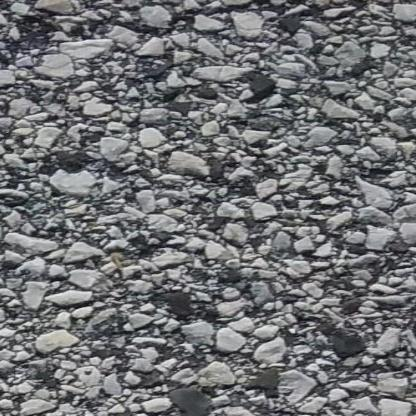Cracks: (0, 0, 165, 17)
